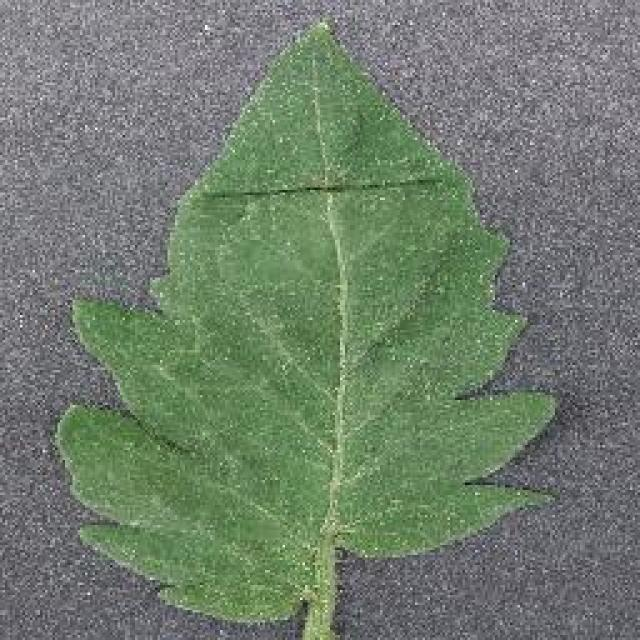healthy: (55, 30, 569, 640)
